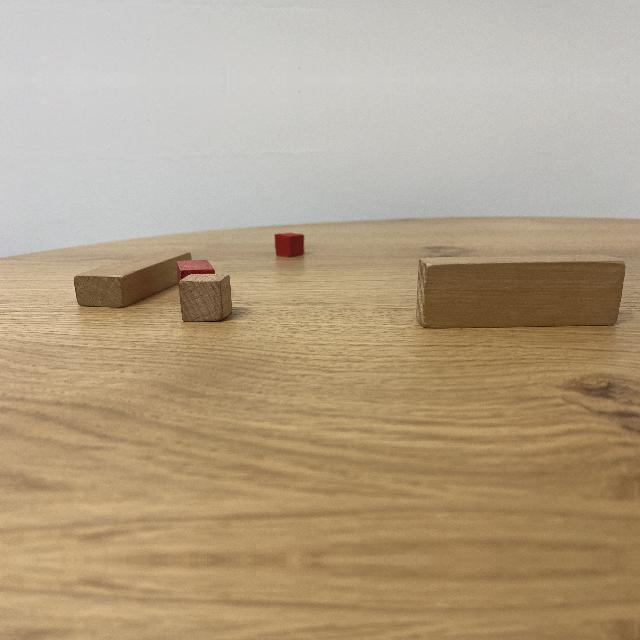cube: (178, 274, 232, 323)
jenga: (416, 259, 627, 331), (73, 252, 192, 308)
red cube: (273, 232, 306, 261), (177, 260, 215, 283)
